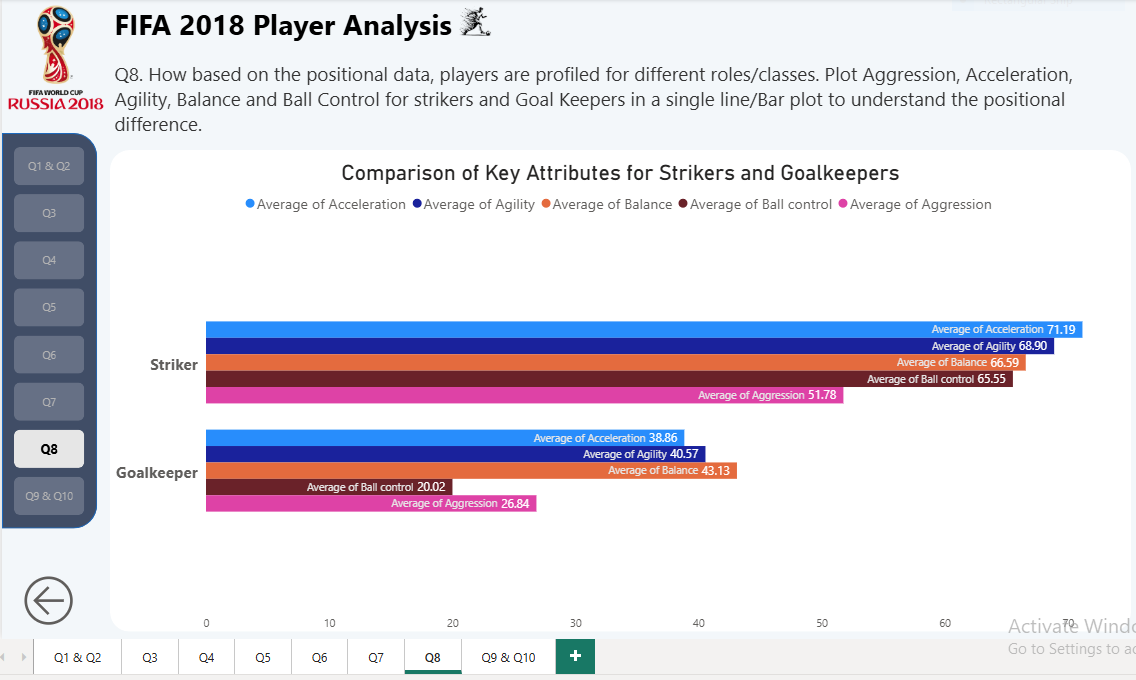

The page's visual inventory and layout, read from the dashboard file:
{"tool":"powerbi","page":{"name":"Q8","canvas":[1280,720],"ordinal":6},"visuals":[{"type":"shape","box":[121.1,169.6,1148.7,541.8],"z":0},{"type":"textbox","box":[121.1,0,402.9,53.5],"z":1000},{"type":"shape","box":[0,150.4,107.1,444.9],"z":1000,"group":"g1"},{"type":"clusteredBarChart","title":"Comparison of Key Attributes for Strikers and Goalkeepers","fields":{"Category":["FIFA 2018 Dataset.PositionGroup"],"Y":["Avg(FIFA 2018 Dataset.Acceleration)","Avg(FIFA 2018 Dataset.Agility)","Avg(FIFA 2018 Dataset.Balance)","Avg(FIFA 2018 Dataset.Ball control)","Avg(FIFA 2018 Dataset.Aggression)"]},"box":[121.1,181,1148.7,539.3],"z":2000},{"type":"textbox","box":[121.1,63.7,1148.7,117.3],"z":3000},{"type":"image","box":[0,0,120,130],"z":4000},{"type":"image","box":[484.5,0,95.6,50],"z":5000},{"type":"group","id":"g1","title":"Group 1","box":[0,150.4,107.1,444.9],"z":5001},{"type":"actionButton","box":[17.8,642.5,70.1,68.8],"z":5002},{"type":"pageNavigator","box":[14,165.7,79,415.6],"z":8000,"group":"g1"}]}

Visuals, with their boxes on the page's 1280x720 design canvas (x1, y1, x2, y2). These are canvas units, not pixel positions in the 1136x680 screenshot, which may show the page scaled, cropped or inside an application window:
shape: [121, 170, 1270, 711]
textbox: [121, 0, 524, 54]
shape: [0, 150, 107, 595]
"Comparison of Key Attributes for Strikers and Goalkeepers" clusteredBarChart: [121, 181, 1270, 720]
textbox: [121, 64, 1270, 181]
image: [0, 0, 120, 130]
image: [484, 0, 580, 50]
"Group 1" group: [0, 150, 107, 595]
actionButton: [18, 642, 88, 711]
pageNavigator: [14, 166, 93, 581]
